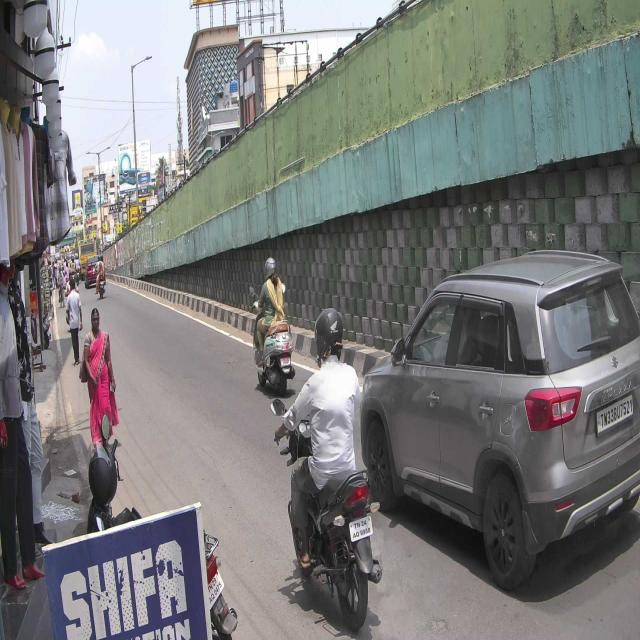single_rider: (296, 306, 386, 630), (247, 256, 296, 398)
